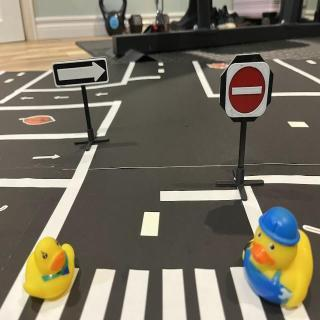duck_regular: (24, 238, 80, 303)
duck_specialty: (243, 208, 314, 306)
road_crosswalk: (35, 266, 271, 320)
road_oneway: (32, 154, 64, 165), (19, 94, 37, 103), (53, 94, 71, 103), (96, 91, 112, 99)
sign_noentry: (228, 63, 266, 119)
sign_oneway_right: (53, 60, 109, 88)
